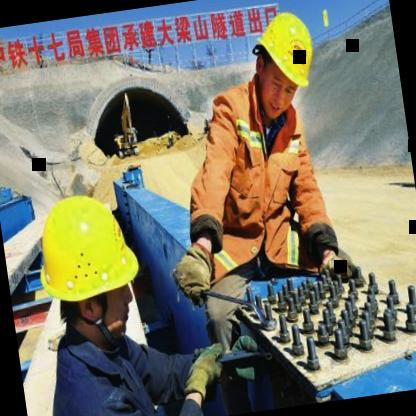helmet: (18, 180, 150, 354), (235, 0, 330, 124)
